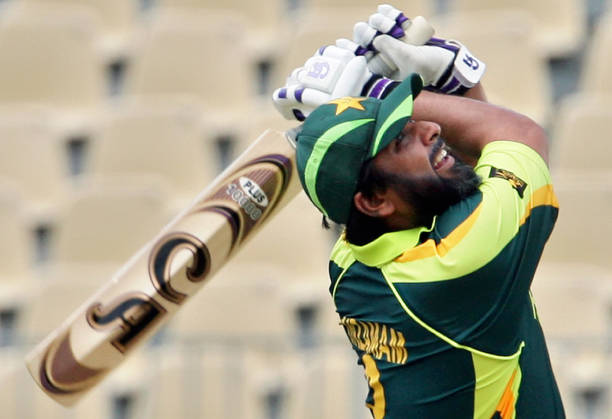bottom left: (14, 346, 42, 374)
bottom right: (56, 390, 80, 414)
top left: (253, 120, 275, 142)
